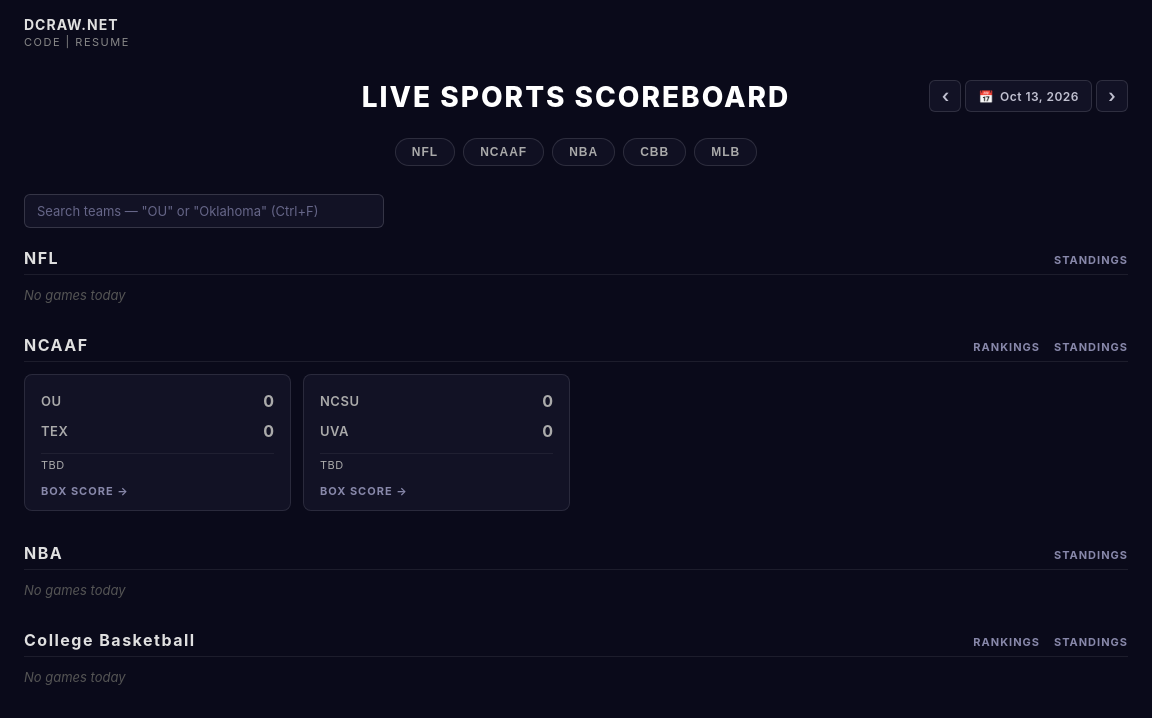
it: SportsPage search › filters cards by full name when the card shows the abbreviation
Expected: the text "OU" is shown, [41,393,62,409]
Type "oklahoma" into the search field at coordinates (204, 211), box [24,194,384,228]
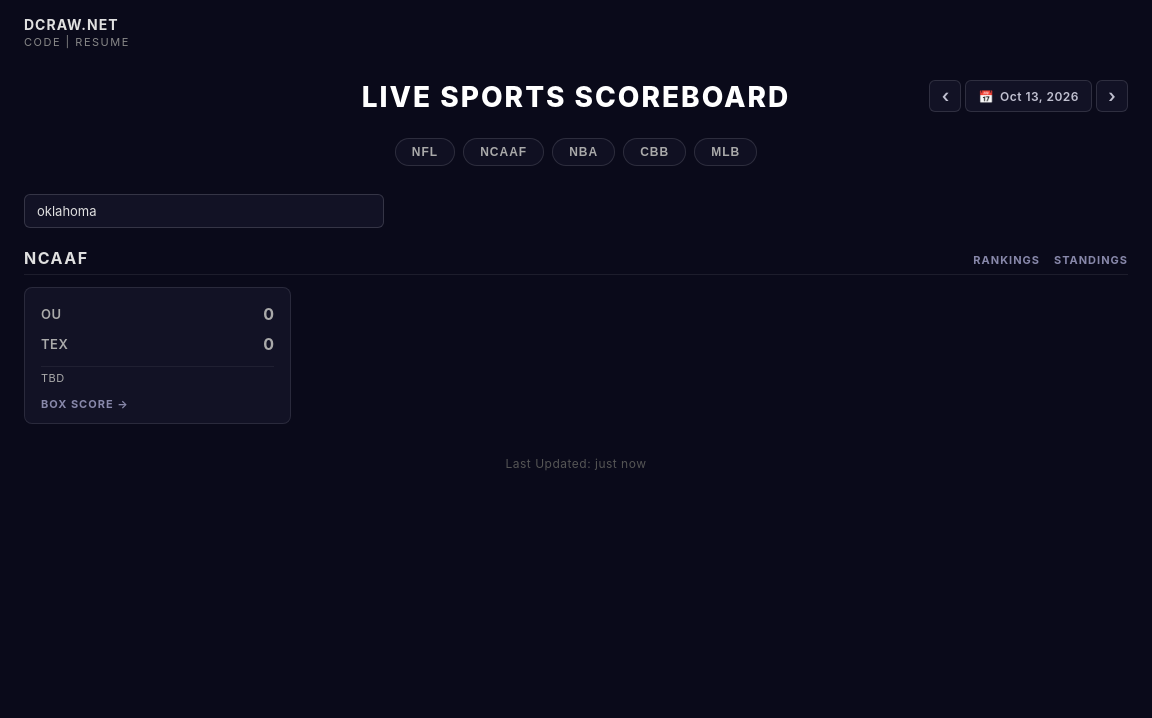
Expected: the text "OU" is shown, [41,306,62,322]
Now the text "NCSU" is gone
